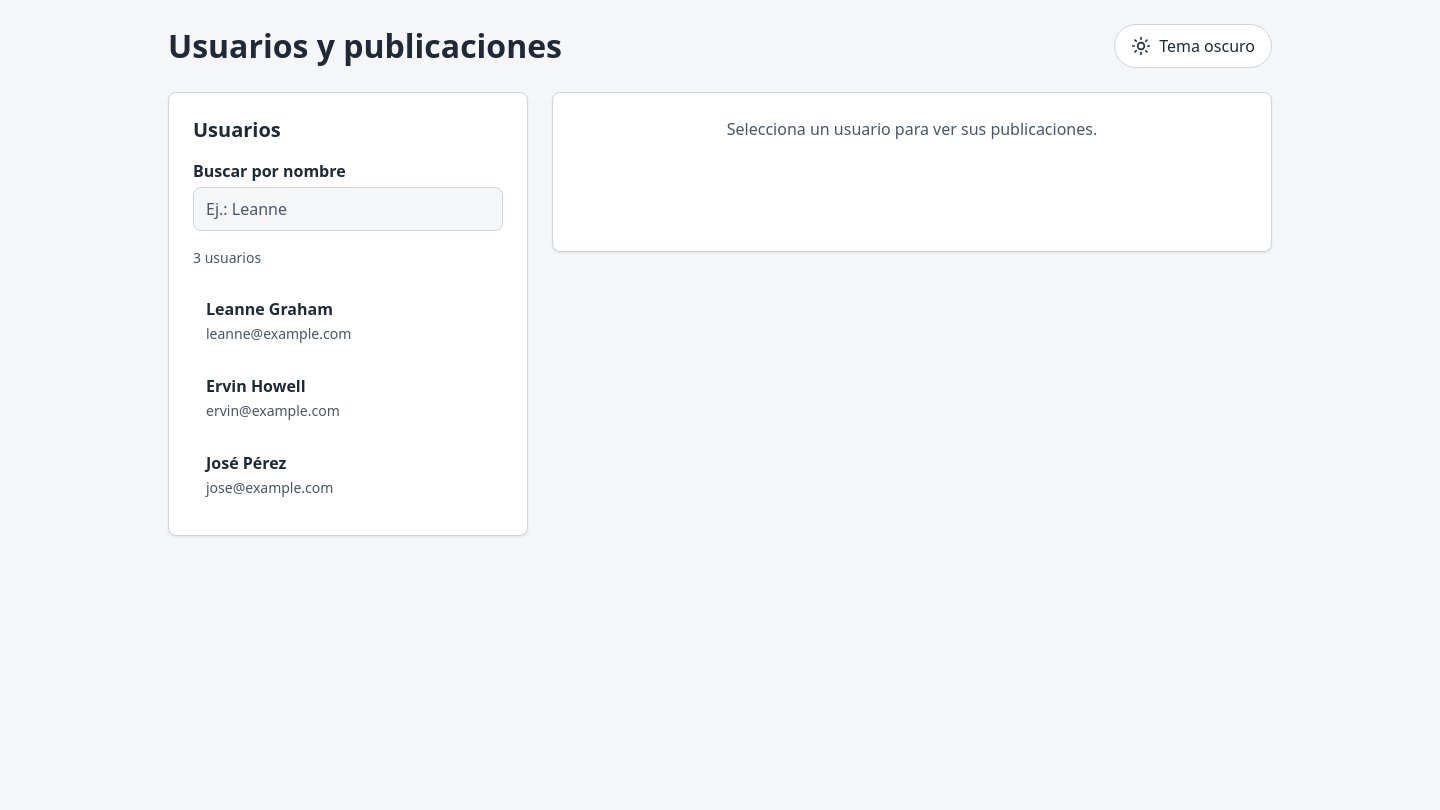
Publicaciones › si falla la publicación muestra un error y conserva lo escrito
This screenshot has width=1440, height=810.
Step 1. Click the button "Leanne Graham leanne@example.com" → (269, 309), box [193,284,503,357]
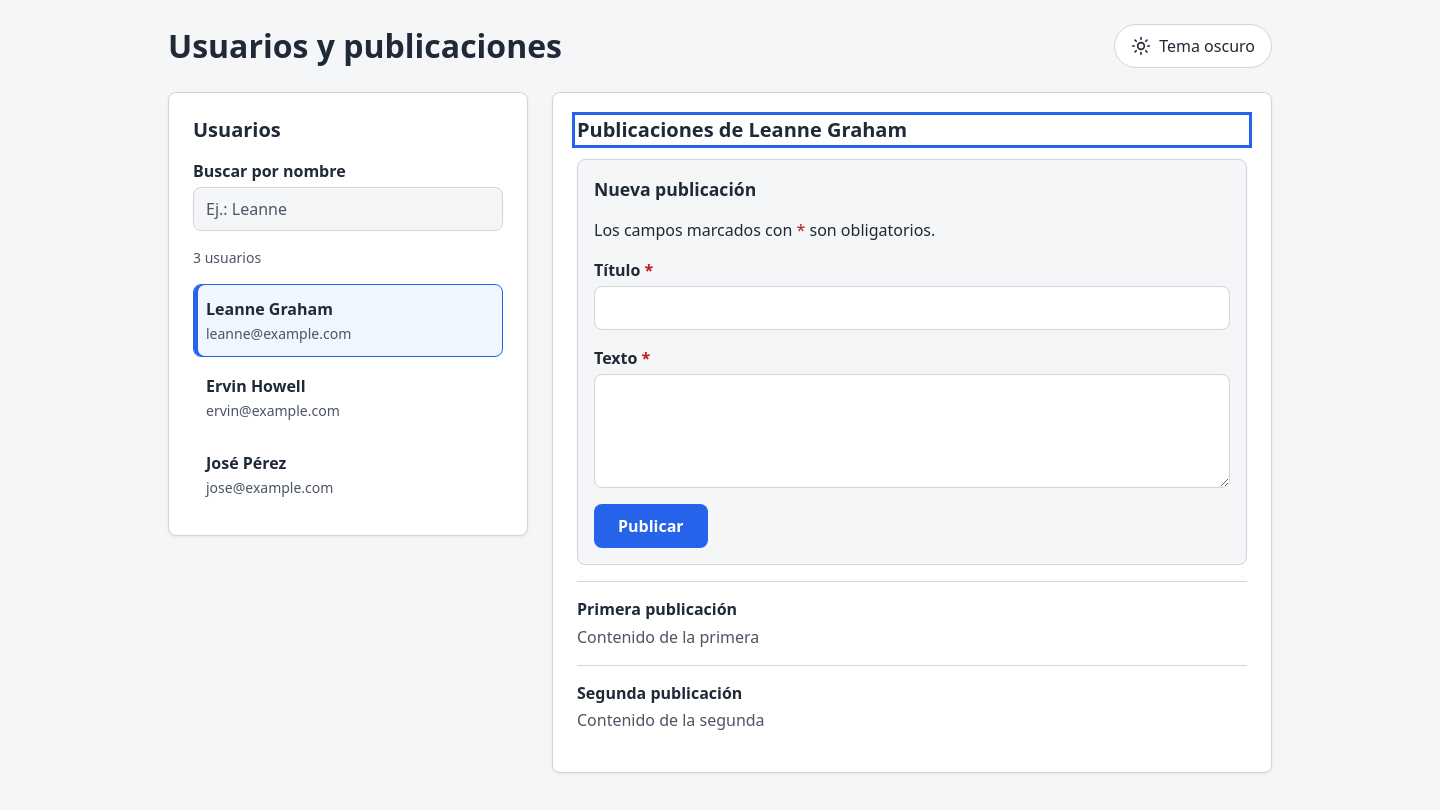
Check: the form "Nueva publicación" is shown, box [577,159,1247,565]
Step 2. Type "No se guardará" into the field labelled "Título *" → (912, 308), box [594,286,1230,330]
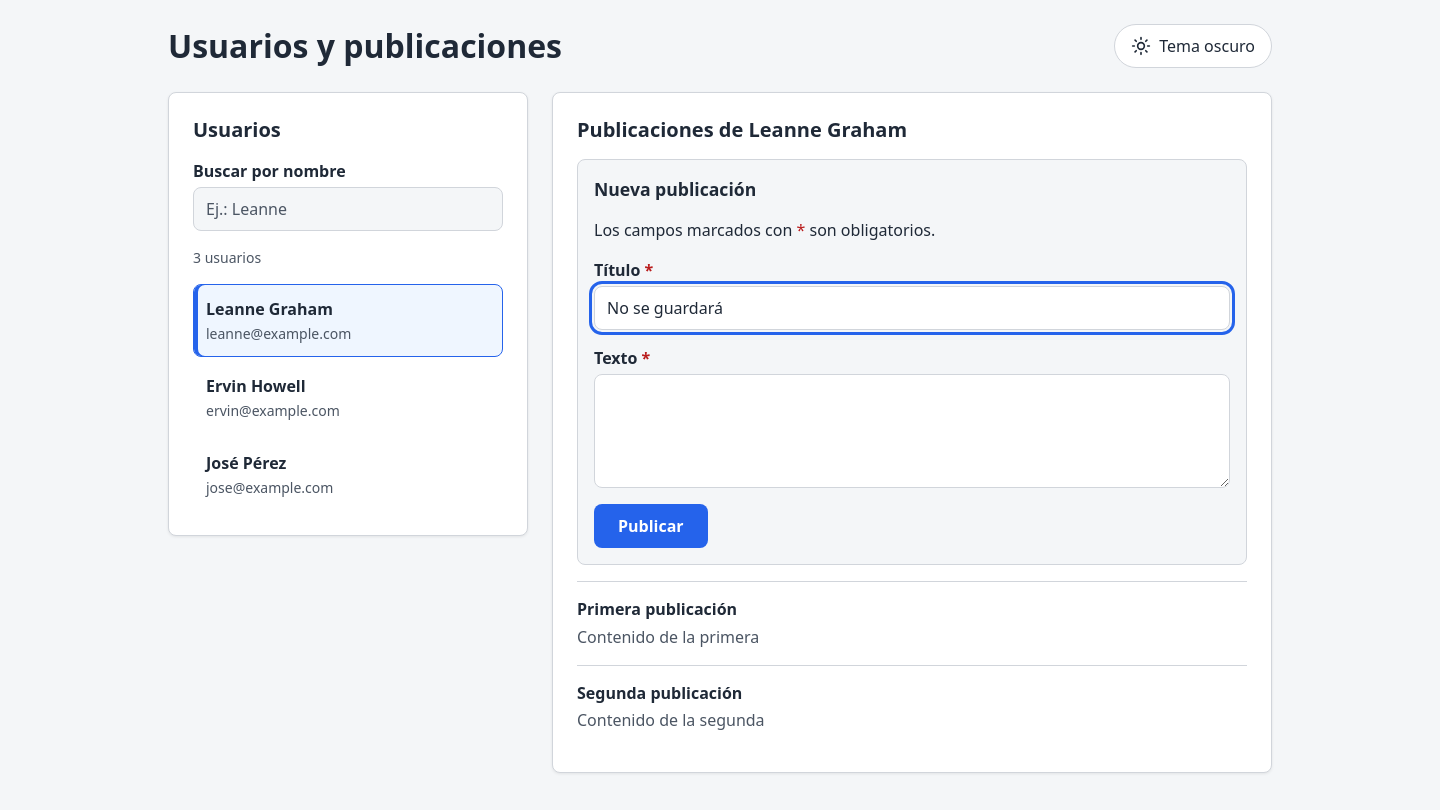
Step 3. Type "Contenido" into the text box labelled "Texto *" → (912, 431), box [594,374,1230,488]
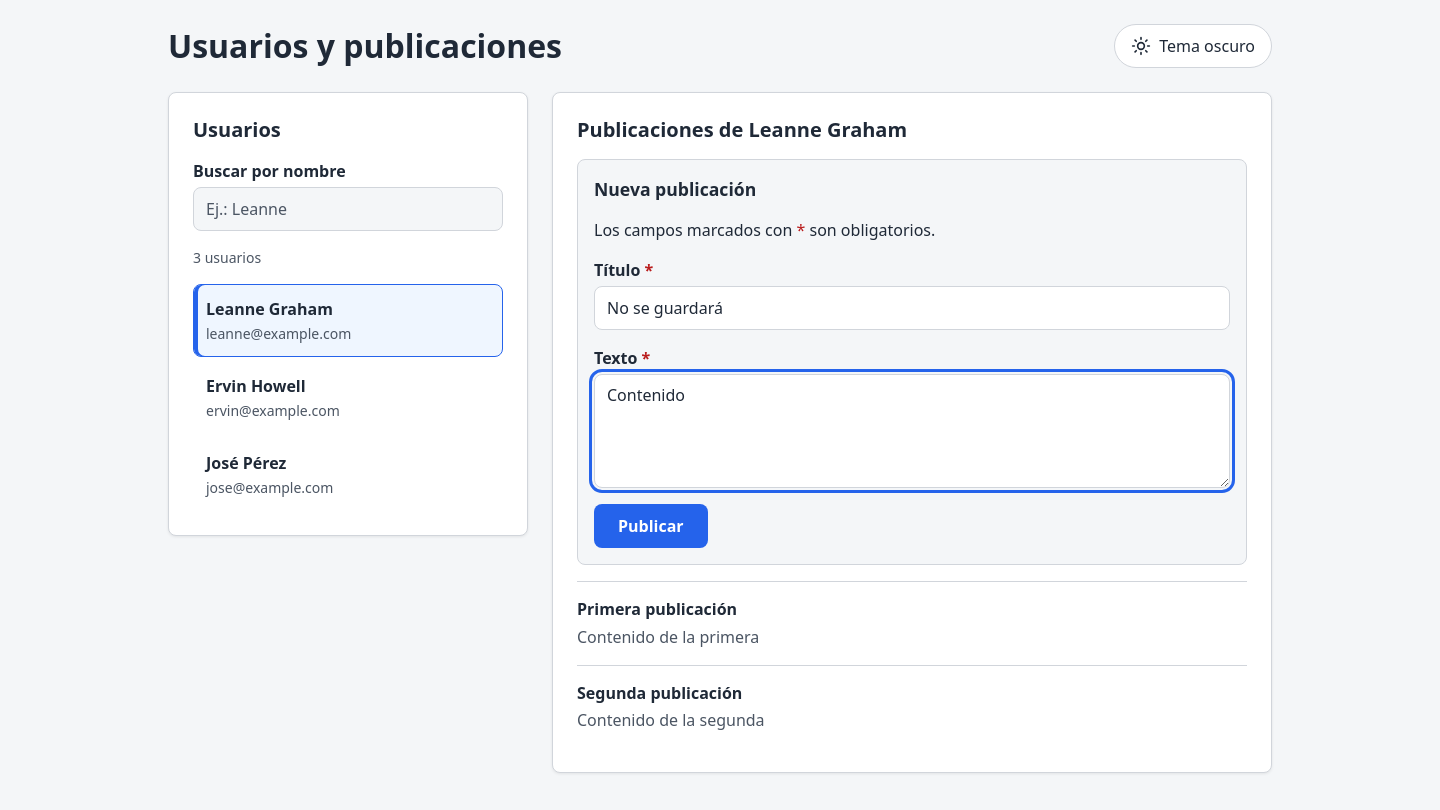
Step 4. Click the button "Publicar" → (651, 526), box [594,504,708,548]
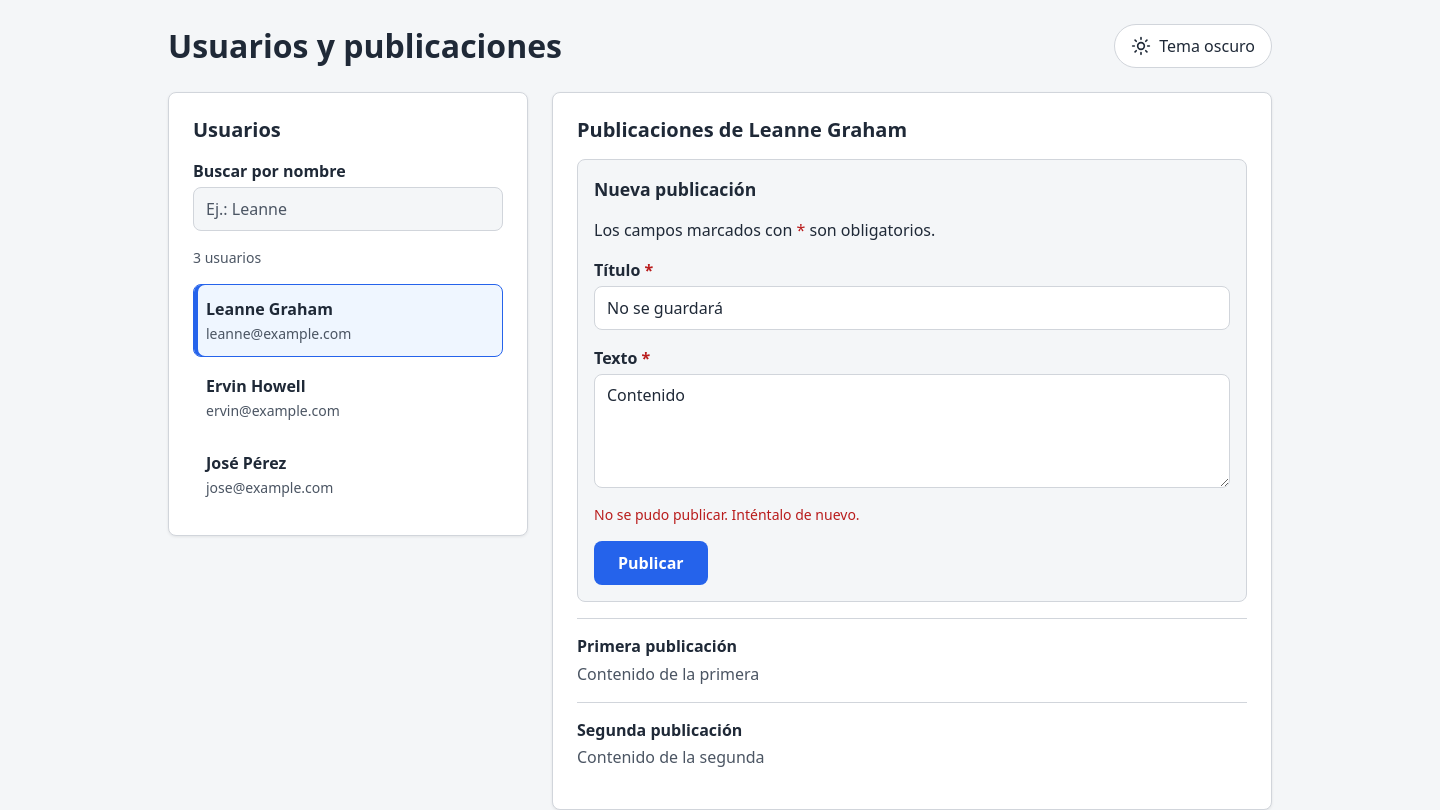
Check: the message "No se pudo publicar. Inténtalo de nuevo." is shown, box [594,505,860,524]
